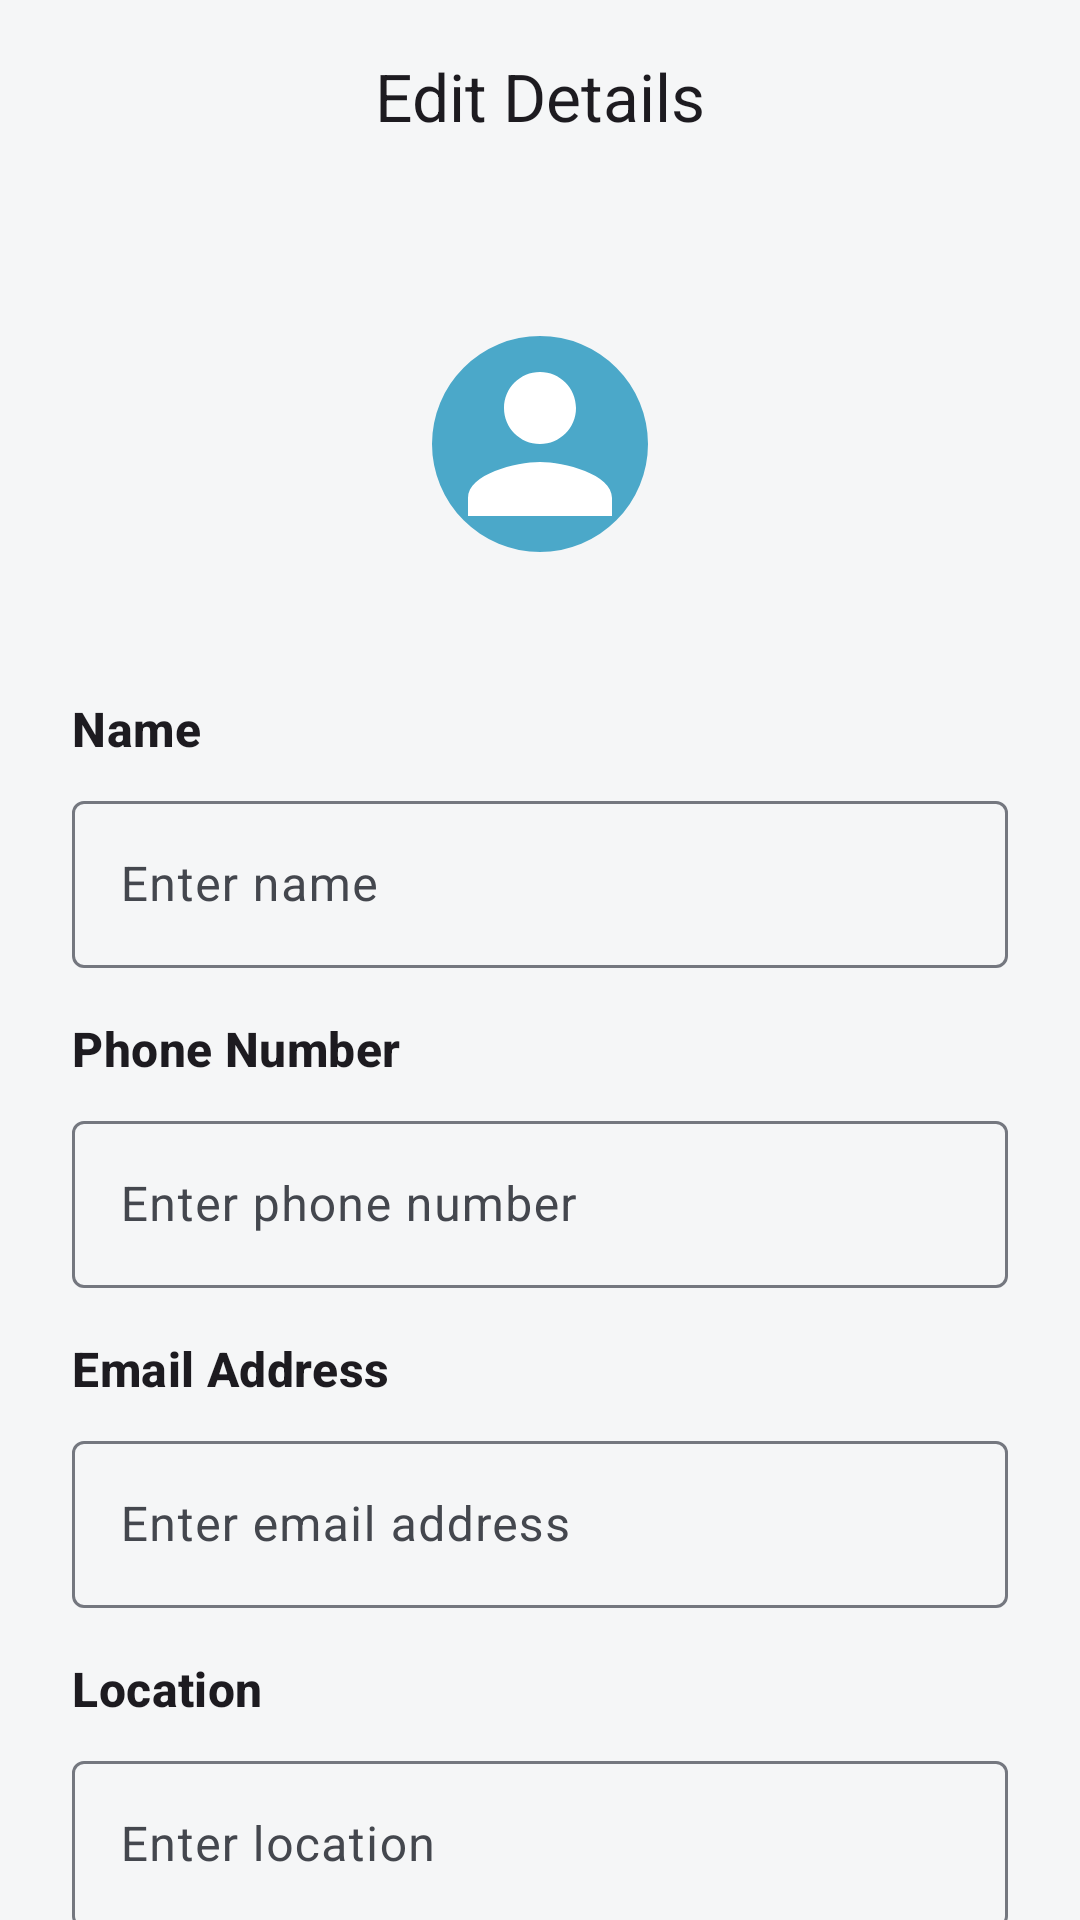

Icon click points for this 1080*1920 phone screenshot, format point (x, y):
profile: point (540, 444)
